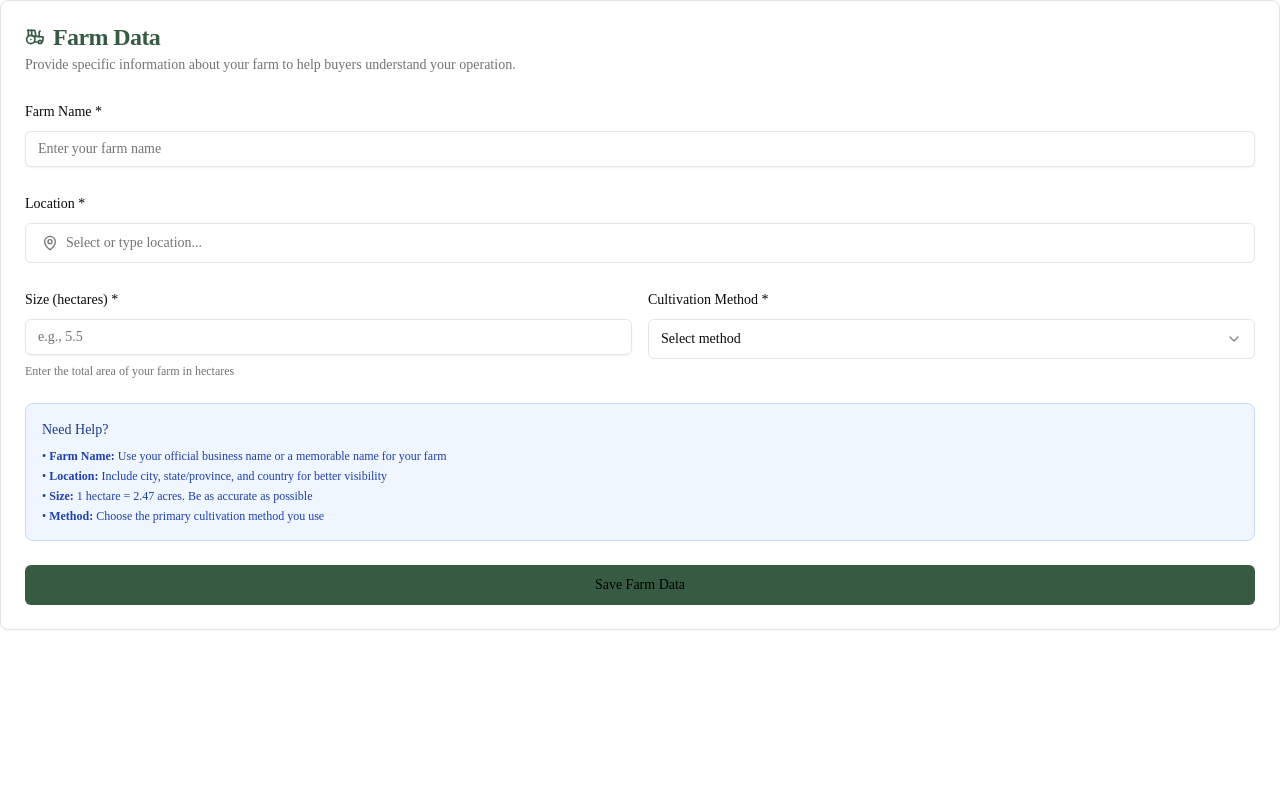
Scenario: FarmDataSection › validates minimum farm name length
This screenshot has width=1280, height=800.
Type "A" into the field labelled "Farm Name *" at (640, 149), box [25,131,1255,167]
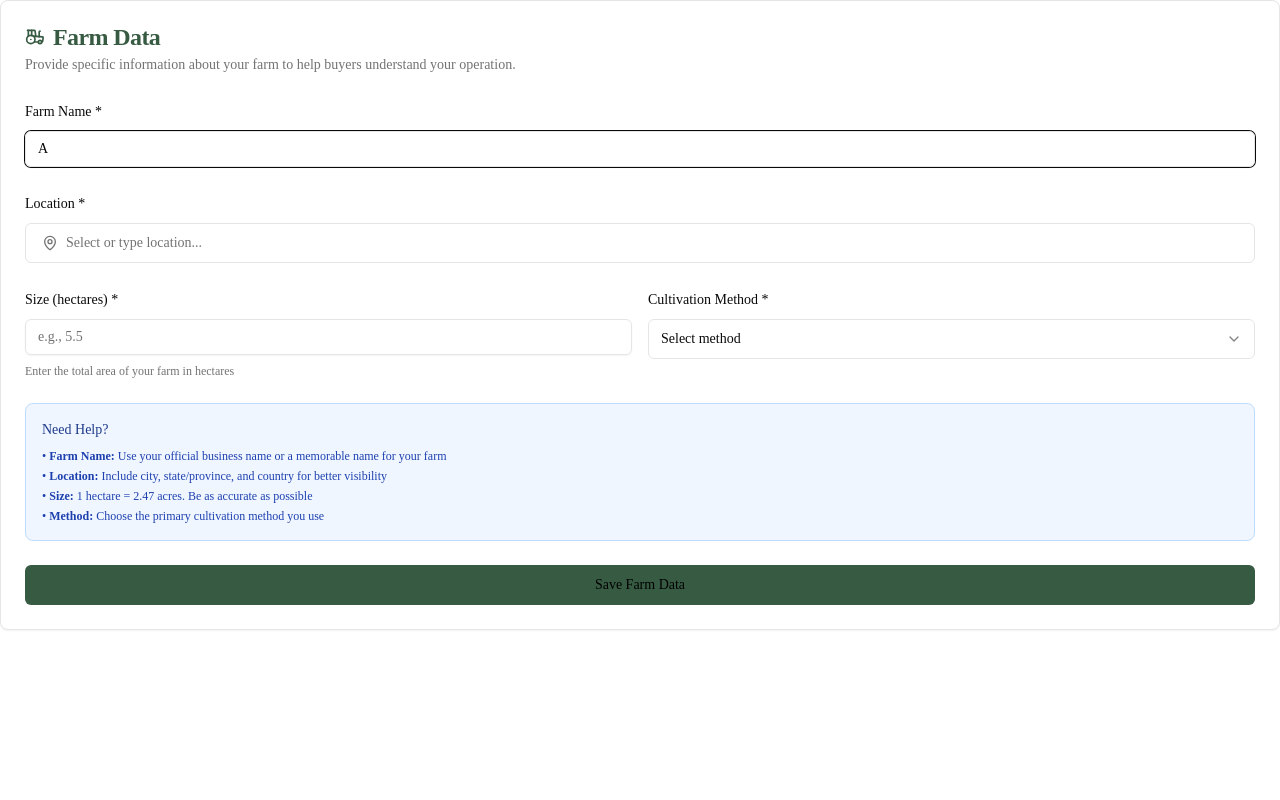
Click the button "Save Farm Data" at (640, 585), box [25,565,1255,605]
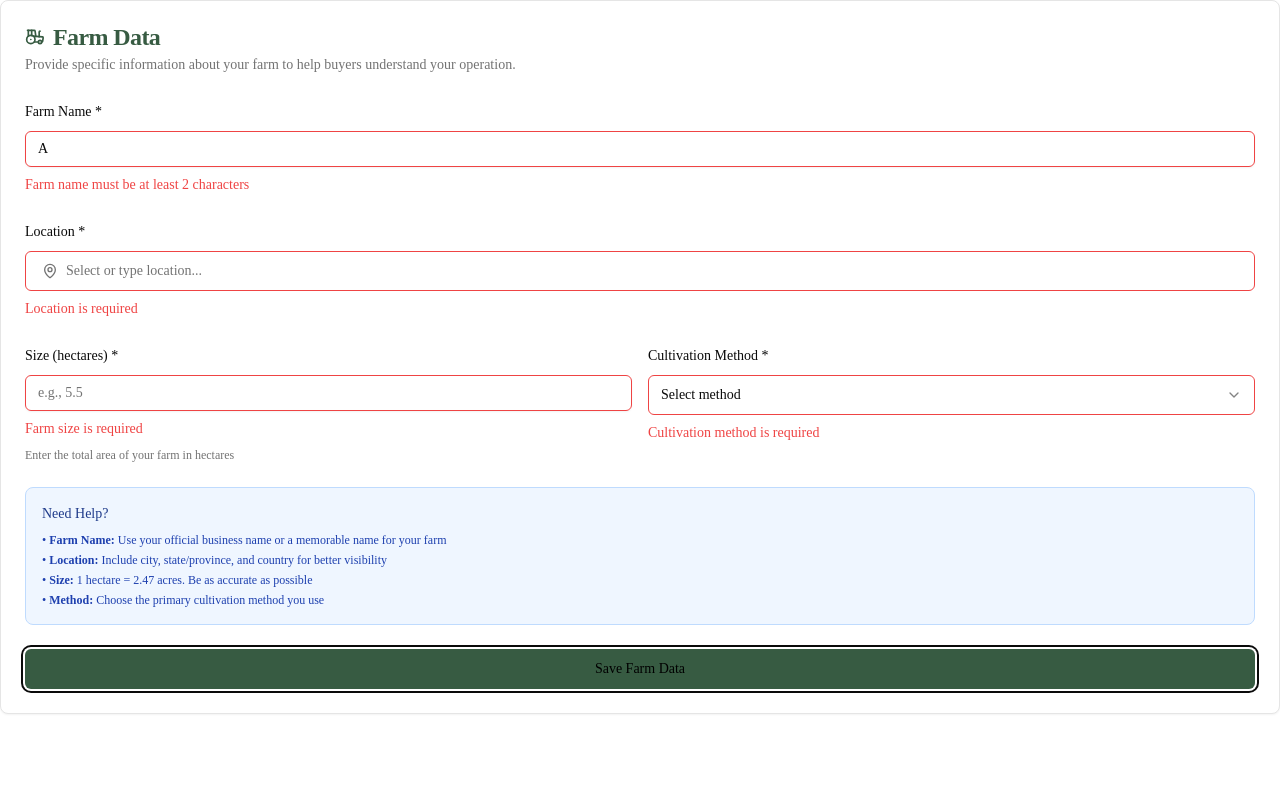
Result: the text "Farm name must be at least 2 characters" is shown at [25,177,249,192]
